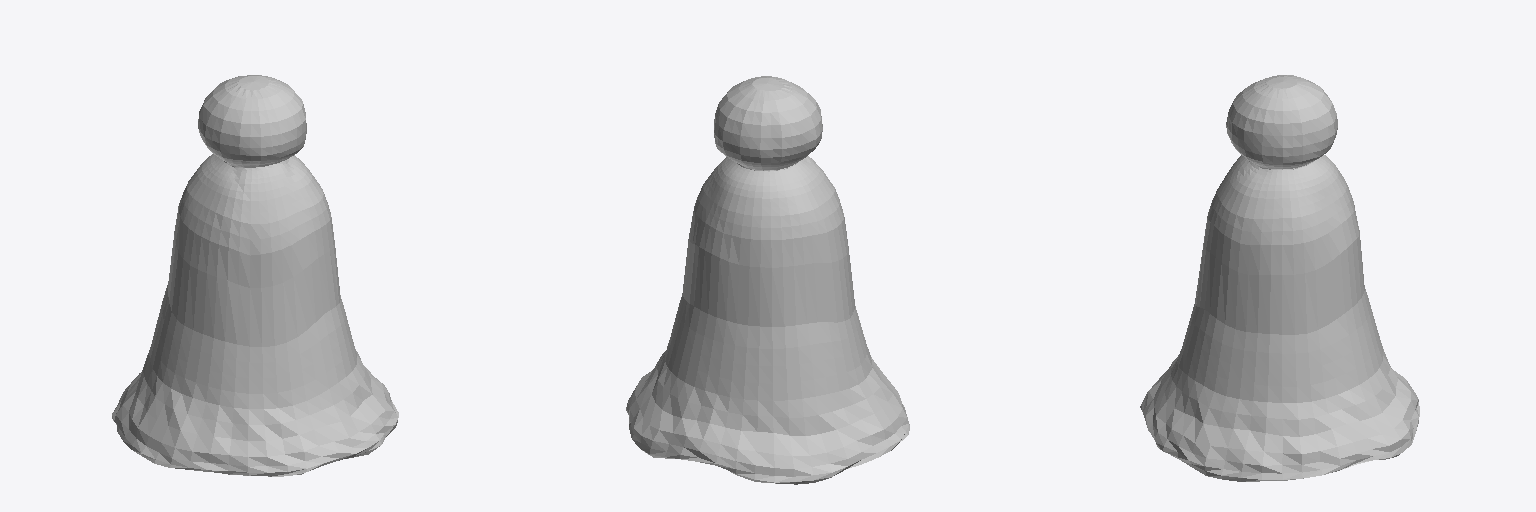
Rendered from Pawn.obj.
3 views of the same model, side by side, from view 1: azimuth 30°, elevation 25°; view 2: azimuth 150°, elevation 25°; view 3: azimuth 270°, elevation 25° (orthographic).
Parts seen in each view (by area): view 1: Cube; view 2: Cube; view 3: Cube.
Boxes of the visible parts, x1=… form: Cube: x1=112, y1=75, x2=398, y2=476; Cube: x1=626, y1=76, x2=909, y2=484; Cube: x1=1140, y1=75, x2=1419, y2=481.
Size of the model in its own units: 0.982 by 1.32 by 0.9596.